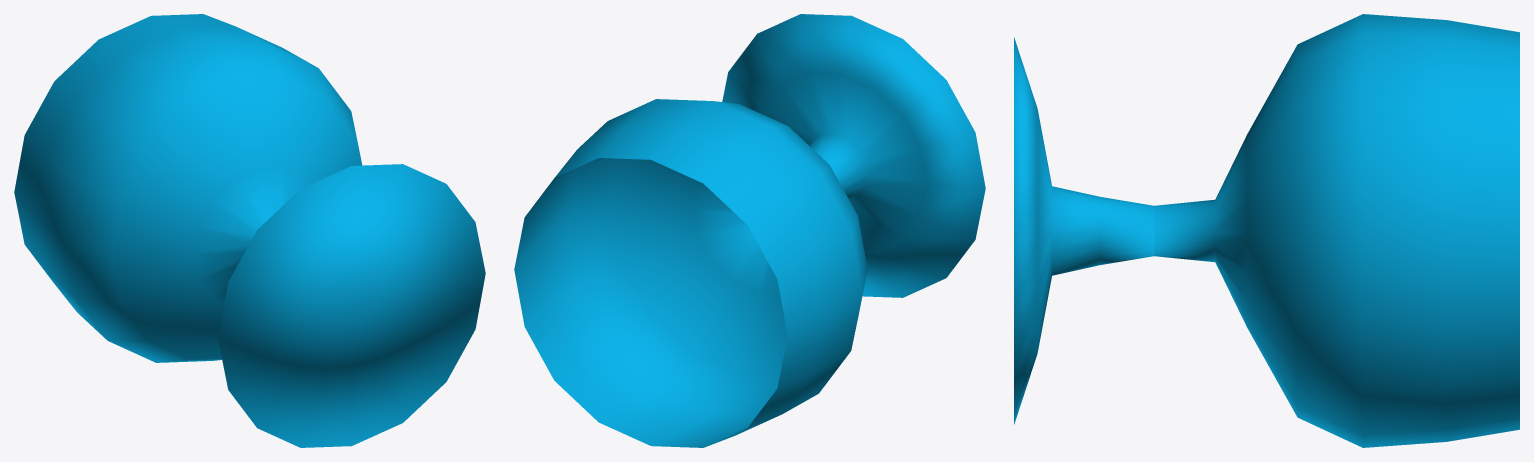
File: copa (1).glb
The picture shows the model from 3 angles, left to right: view 1: azimuth 30°, elevation 25°; view 2: azimuth 150°, elevation 25°; view 3: azimuth 270°, elevation 25°; orthographic projection. The views are drawn at different scales.
Visible parts, largest first — view 1: Plane; view 2: Plane; view 3: Plane.
Boxes of the visible parts, x1,y1,x2,y2 form: Plane: [14, 14, 485, 447]; Plane: [514, 14, 985, 447]; Plane: [1014, 14, 1519, 447].
Bounding box in the file's own units: 6.55 × 6.55 × 7.62.
